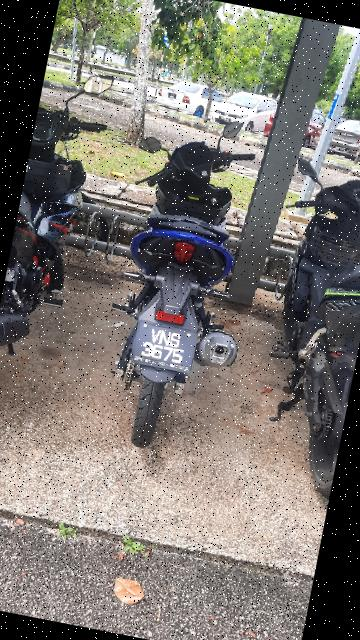License_Plate: (127, 319, 203, 377)
motorcycle: (71, 100, 291, 470)
